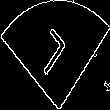L_SW: (34, 26, 76, 84)
